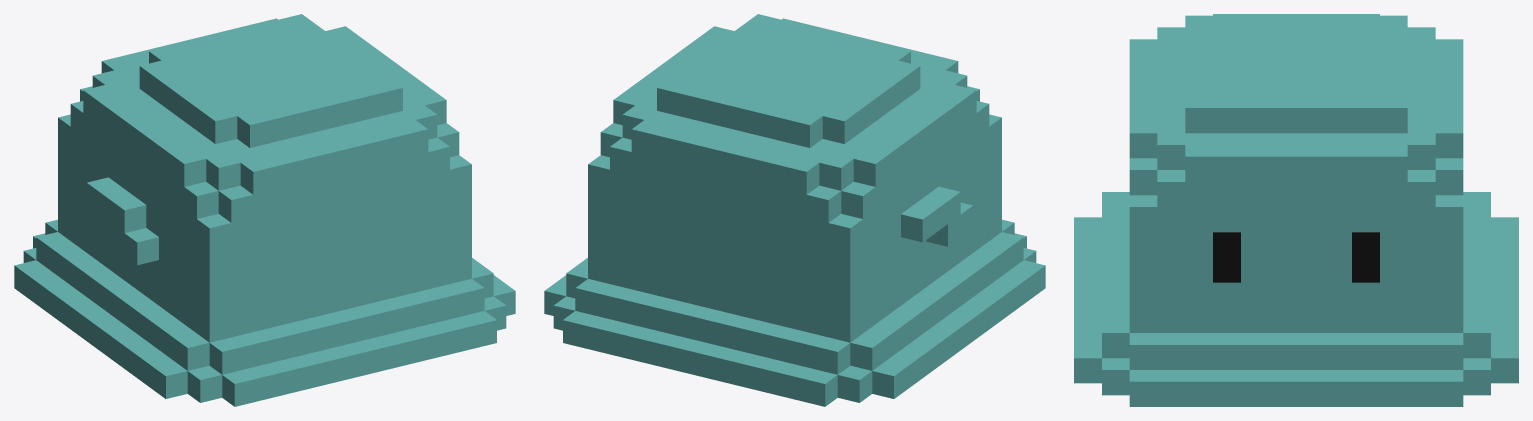
Rendered from slime6.obj.
The picture shows the model from 3 angles, left to right: view 1: azimuth 30°, elevation 25°; view 2: azimuth 150°, elevation 25°; view 3: azimuth 270°, elevation 25°; orthographic projection. The views are drawn at different scales.
Size of the model in its own units: 1.6 by 1 by 1.6.
1 material, 1 textured.
